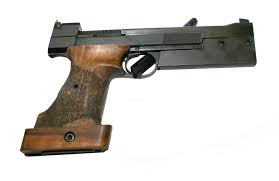gun: (27, 18, 260, 153)
